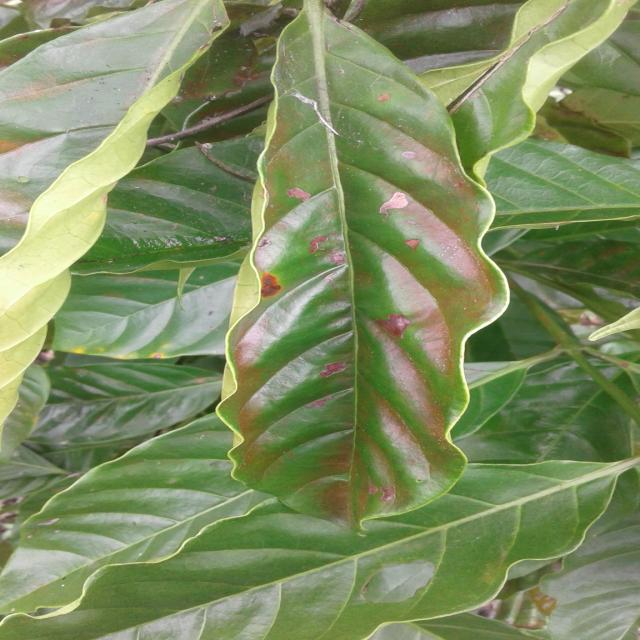Plaga-AranaRoja: (214, 0, 512, 533)
